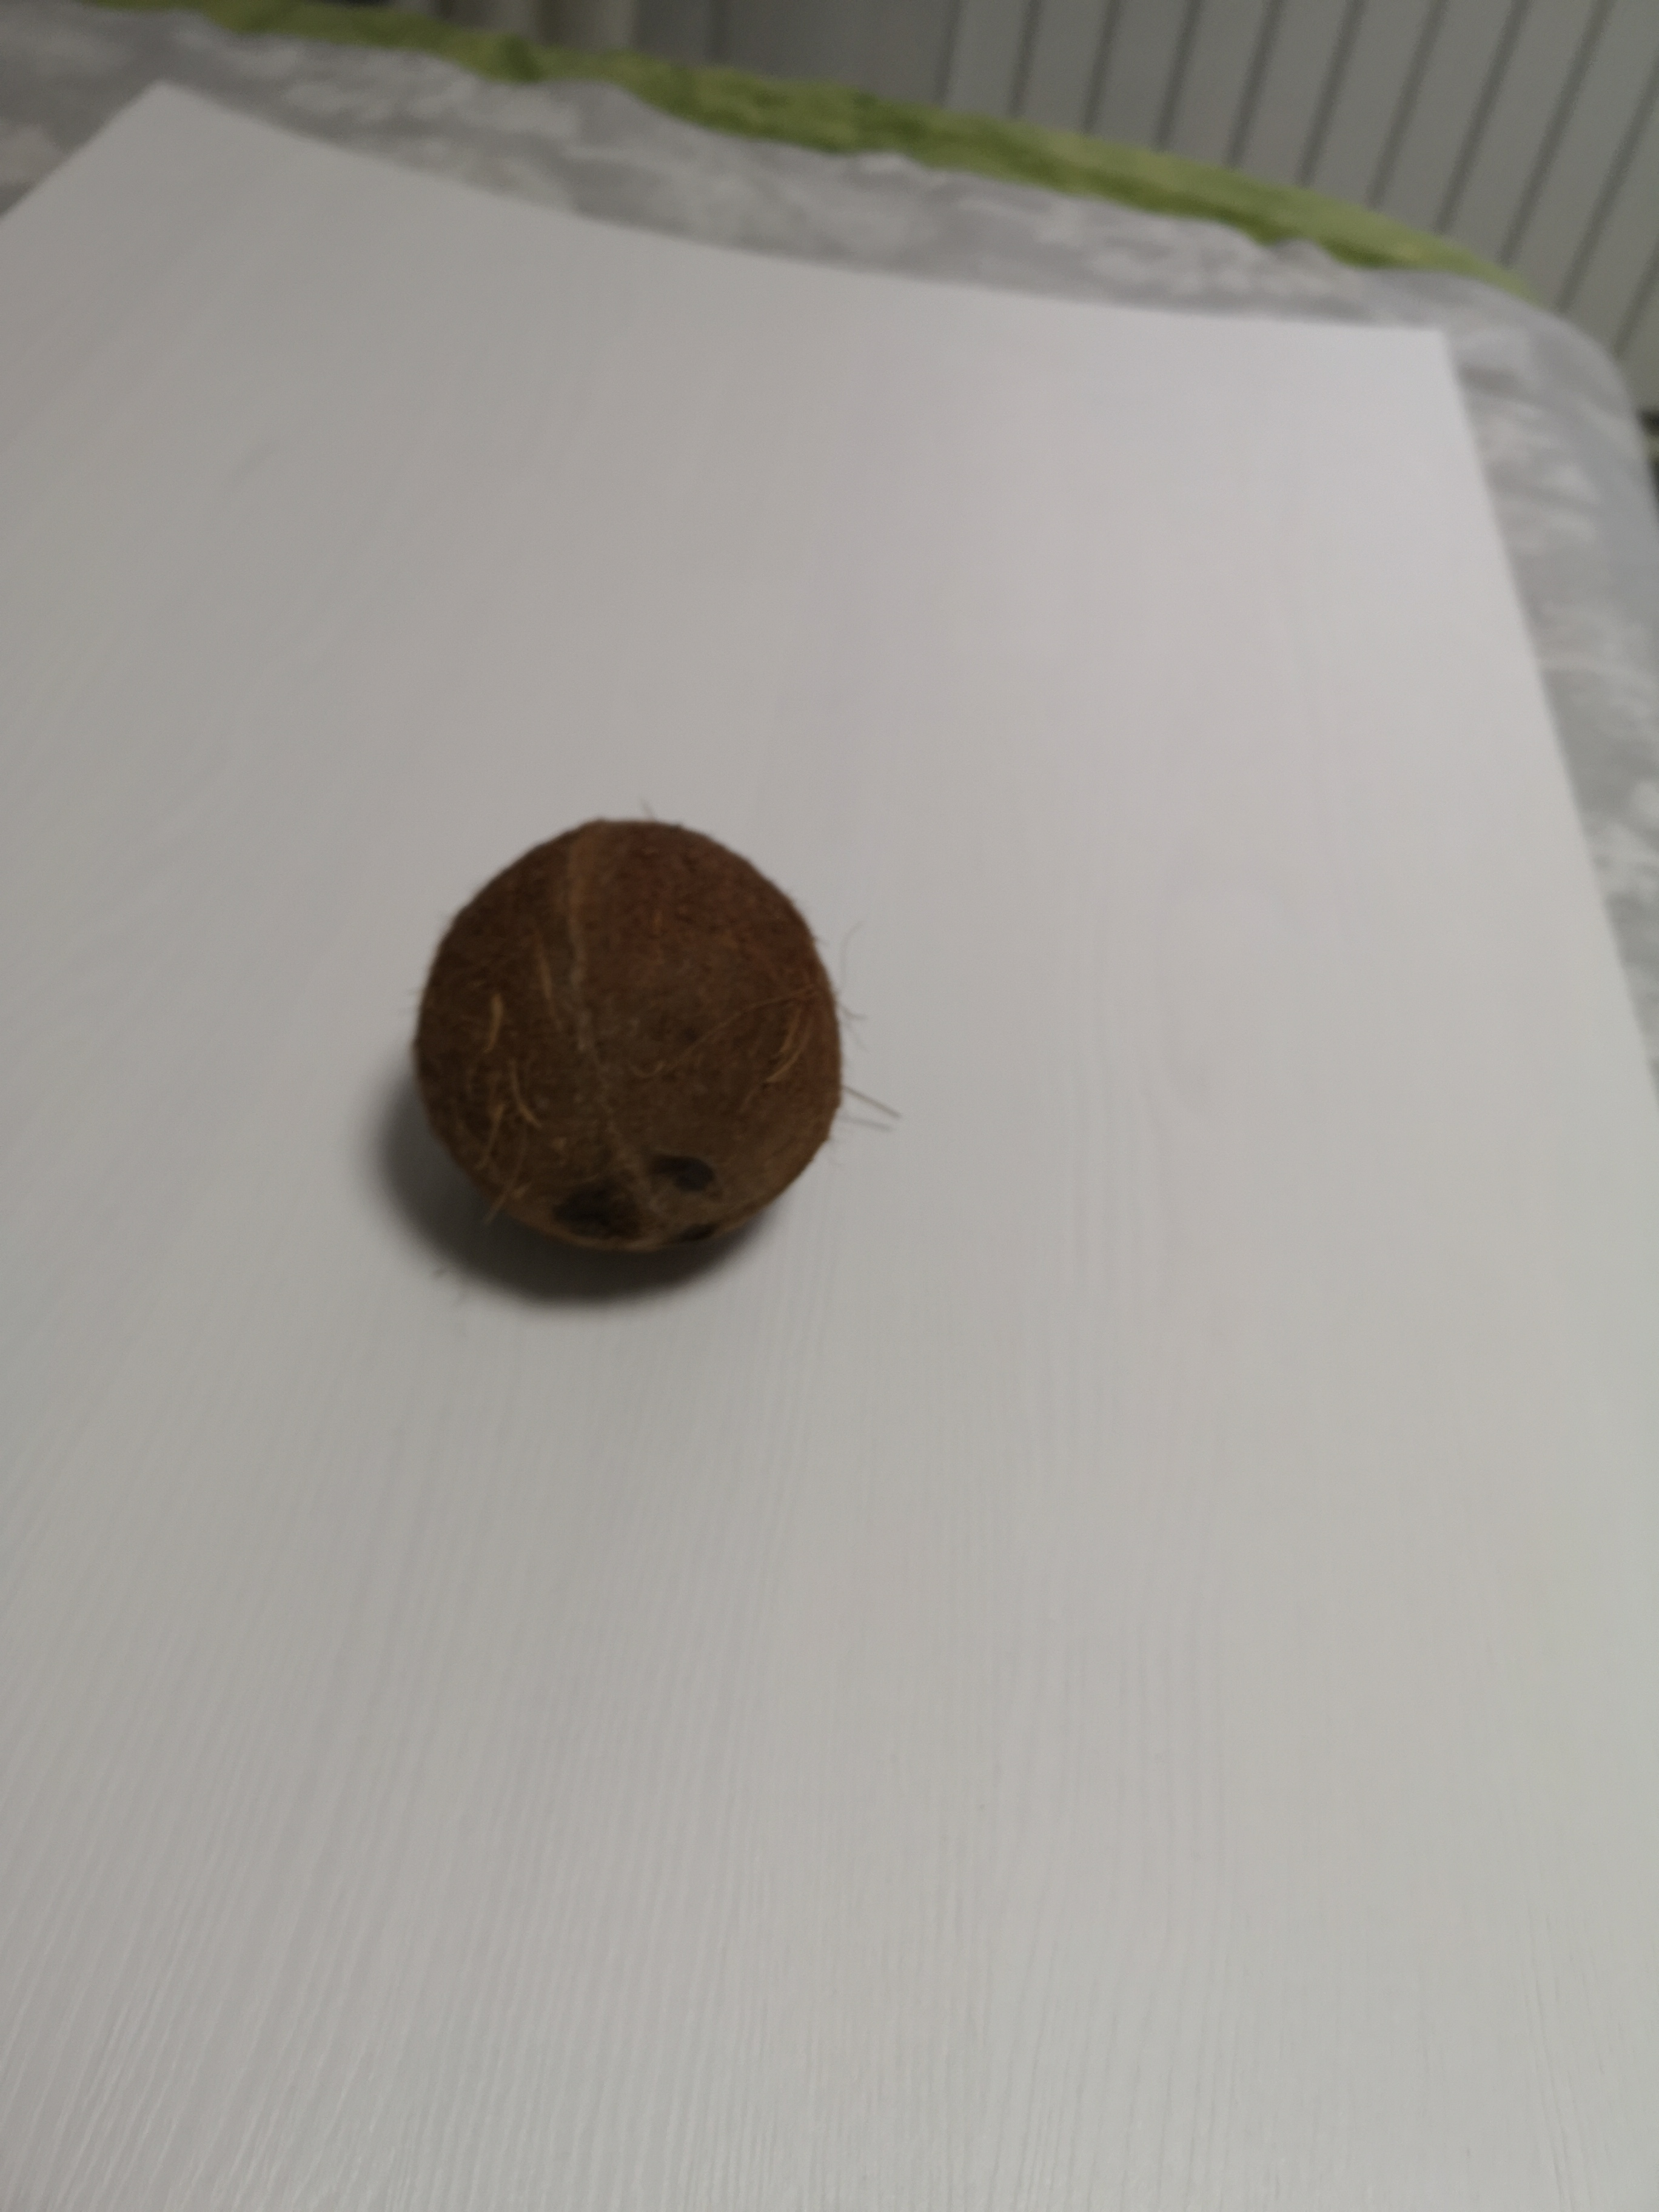coconut: (410, 810, 847, 1268)
